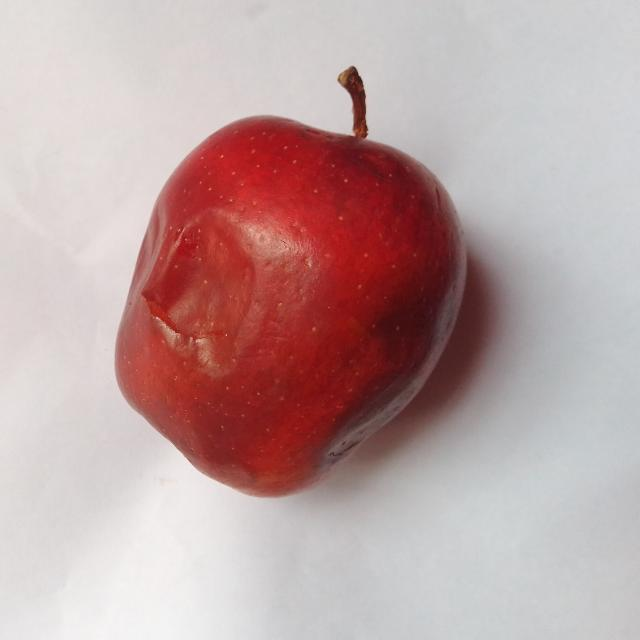apple: (116, 68, 465, 496)
